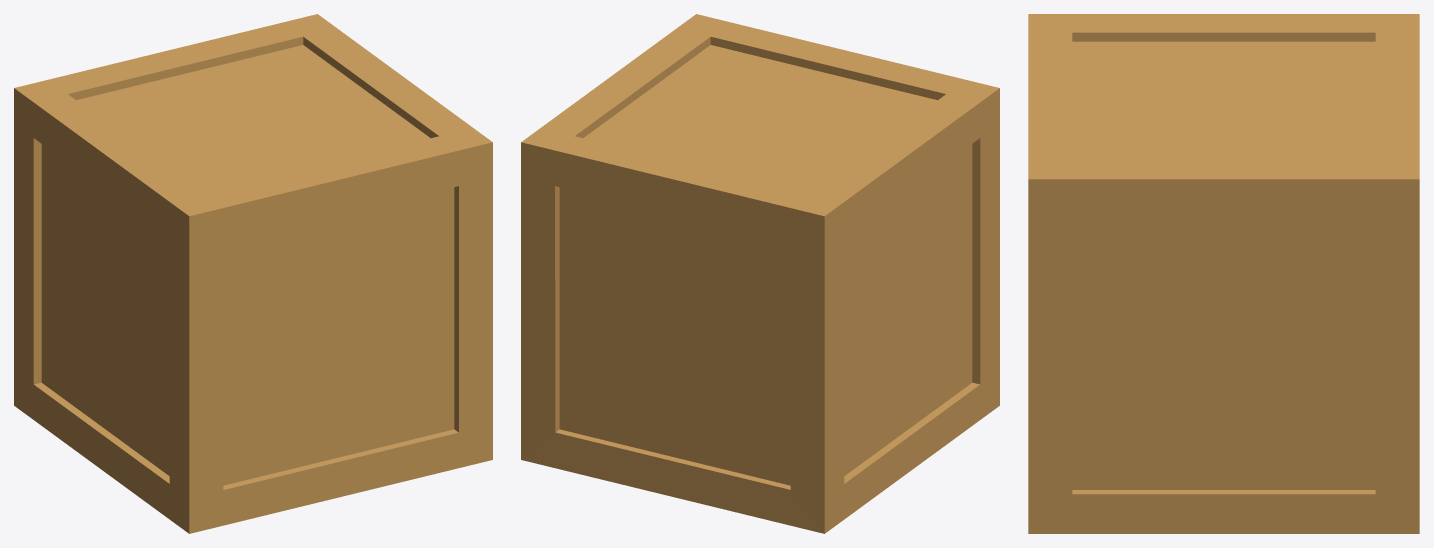
3 renders of one model, left to right at view 1: azimuth 30°, elevation 25°; view 2: azimuth 150°, elevation 25°; view 3: azimuth 270°, elevation 25°, orthographic. The views are drawn at different scales.
Visible parts, largest first — view 1: Box_01_c; view 2: Box_01_c; view 3: Box_01_c.
Boxes of the visible parts, x1,y1,x2,y2 form: Box_01_c: (14, 14, 492, 533); Box_01_c: (521, 14, 999, 533); Box_01_c: (1028, 14, 1419, 533).
Bounding box in the file's own units: 18.68 × 18.68 × 18.68.
